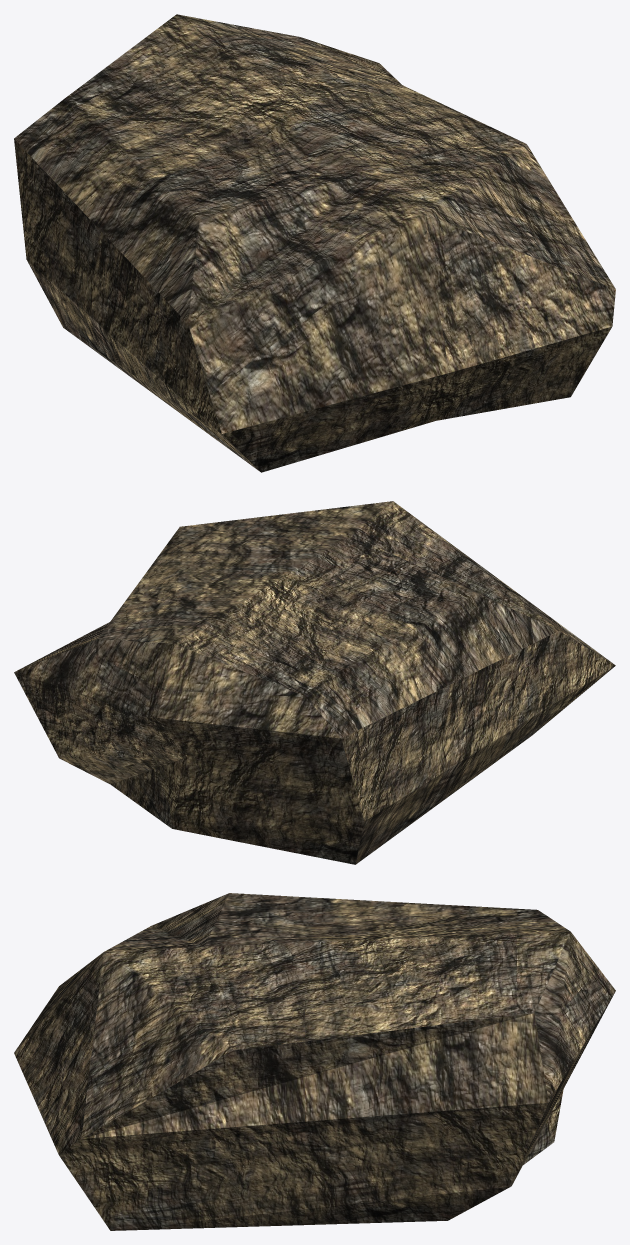
The model's file is rock 3.obj.
3 renders of one model, top to bottom at view 1: azimuth 30°, elevation 25°; view 2: azimuth 150°, elevation 25°; view 3: azimuth 270°, elevation 25°, orthographic. The views are drawn at different scales.
Visible parts, largest first — view 1: Cube.002; view 2: Cube.002; view 3: Cube.002.
Part boxes in pixels (x1,y1,x2,y2): Cube.002: (14,14,615,472); Cube.002: (14,501,615,864); Cube.002: (14,893,615,1230).
Size of the model in its own units: 1.86 by 1.03 by 2.46.
